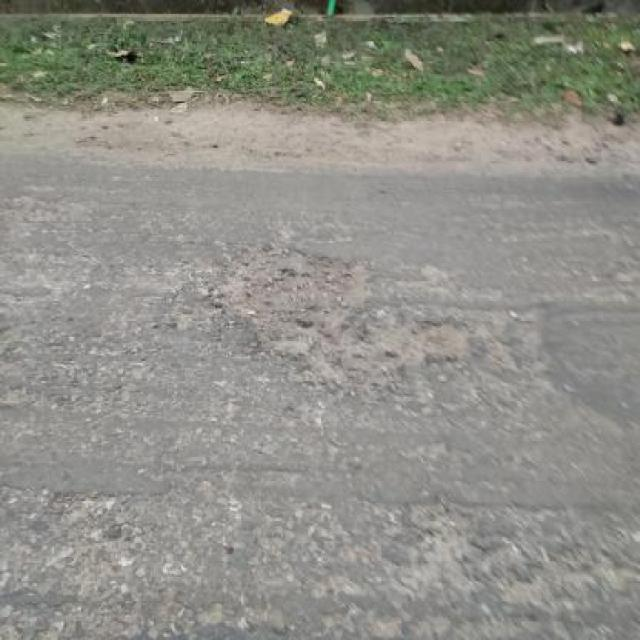Pothole: (208, 232, 472, 388)
